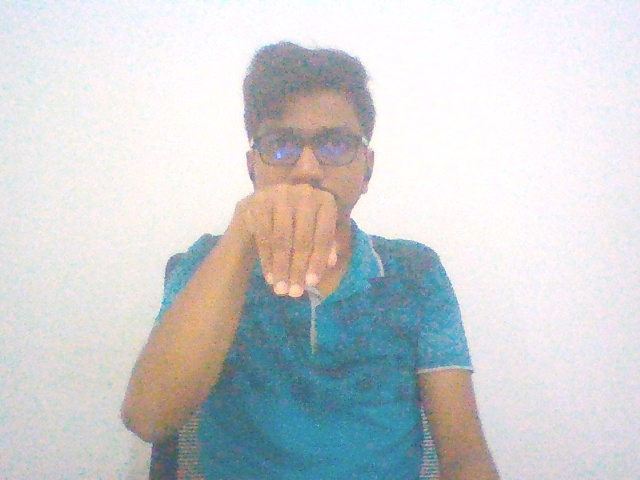Squirrel: (204, 162, 383, 322)
